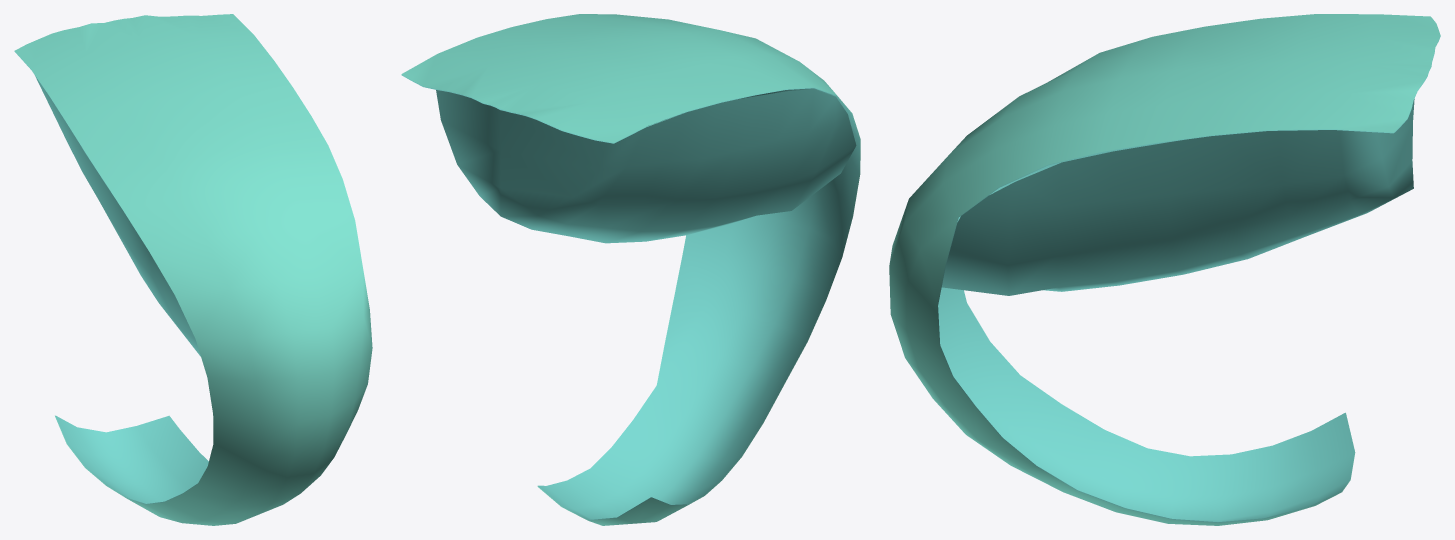
The model's file is Mesh_Home_RF_River_02_SM.fbx.
3 renders of one model, left to right at view 1: azimuth 30°, elevation 25°; view 2: azimuth 150°, elevation 25°; view 3: azimuth 270°, elevation 25°, orthographic. The views are drawn at different scales.
Parts seen in each view (by area): view 1: Mesh_Home_RF_River_02; view 2: Mesh_Home_RF_River_02; view 3: Mesh_Home_RF_River_02.
Boxes of the visible parts, <box> form: Mesh_Home_RF_River_02: <box>14,14,372,525</box>; Mesh_Home_RF_River_02: <box>401,14,860,525</box>; Mesh_Home_RF_River_02: <box>889,14,1440,525</box>.
Size of the model in its own units: 1466 by 2438 by 2549.
1 material, 1 textured.
